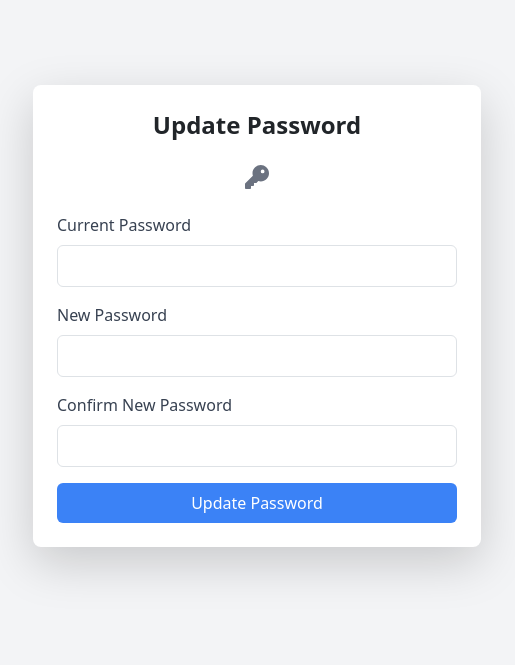
Scenario: UpdatePassword Component › displays error message when password does not meet criteria
Note: Fill the form with a short password and submit
In the password field labelled "Current Password": {"x": 257, "y": 266} [57,245,457,287], type "currentPassword123"
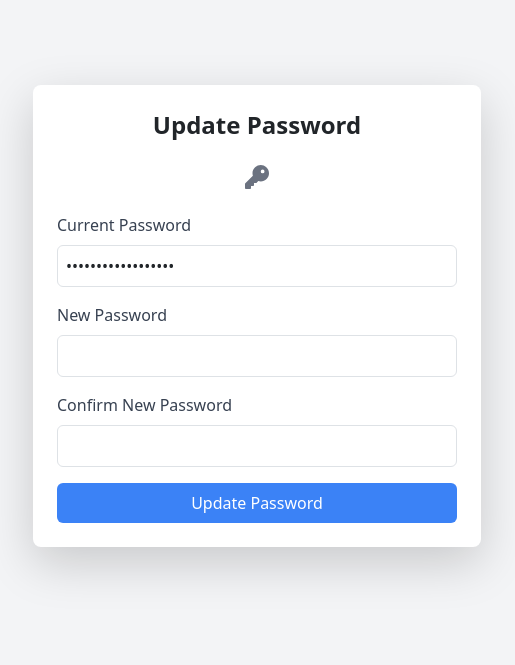
In the password field labelled "New Password": {"x": 257, "y": 356} [57,335,457,377], type "short"
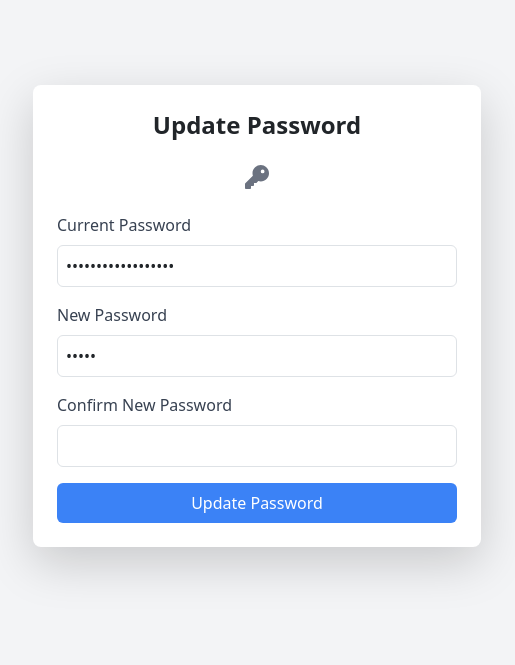
In the password field labelled "Confirm New Password": {"x": 257, "y": 446} [57,425,457,467], type "short"
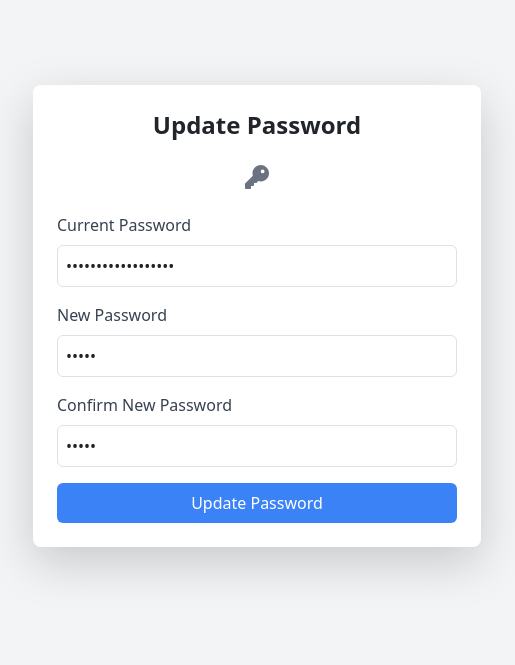
Click the button "Update Password": {"x": 257, "y": 503} [57,483,457,523]
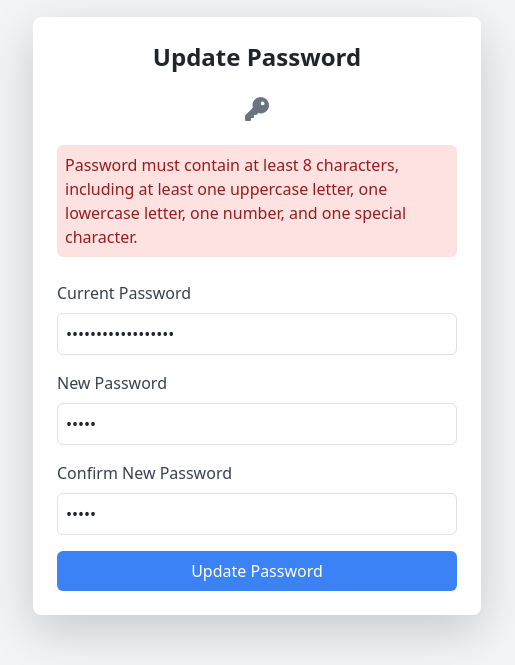
Check: the text "Password must contain at least 8 characters, including at least one uppercase letter, one lowercase letter, one number, " is shown, box [65,154,406,248]
